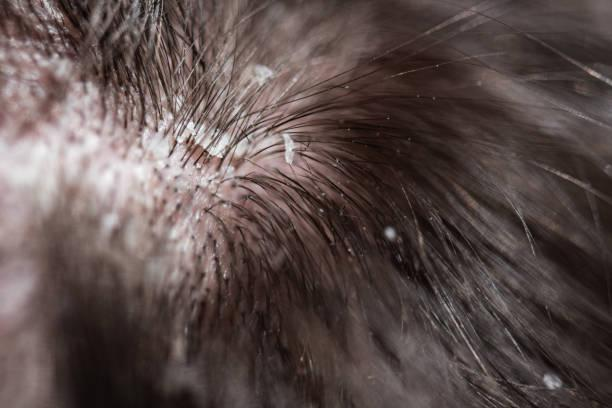dandruff: (169, 104, 312, 172), (233, 51, 287, 94), (371, 206, 404, 252)
